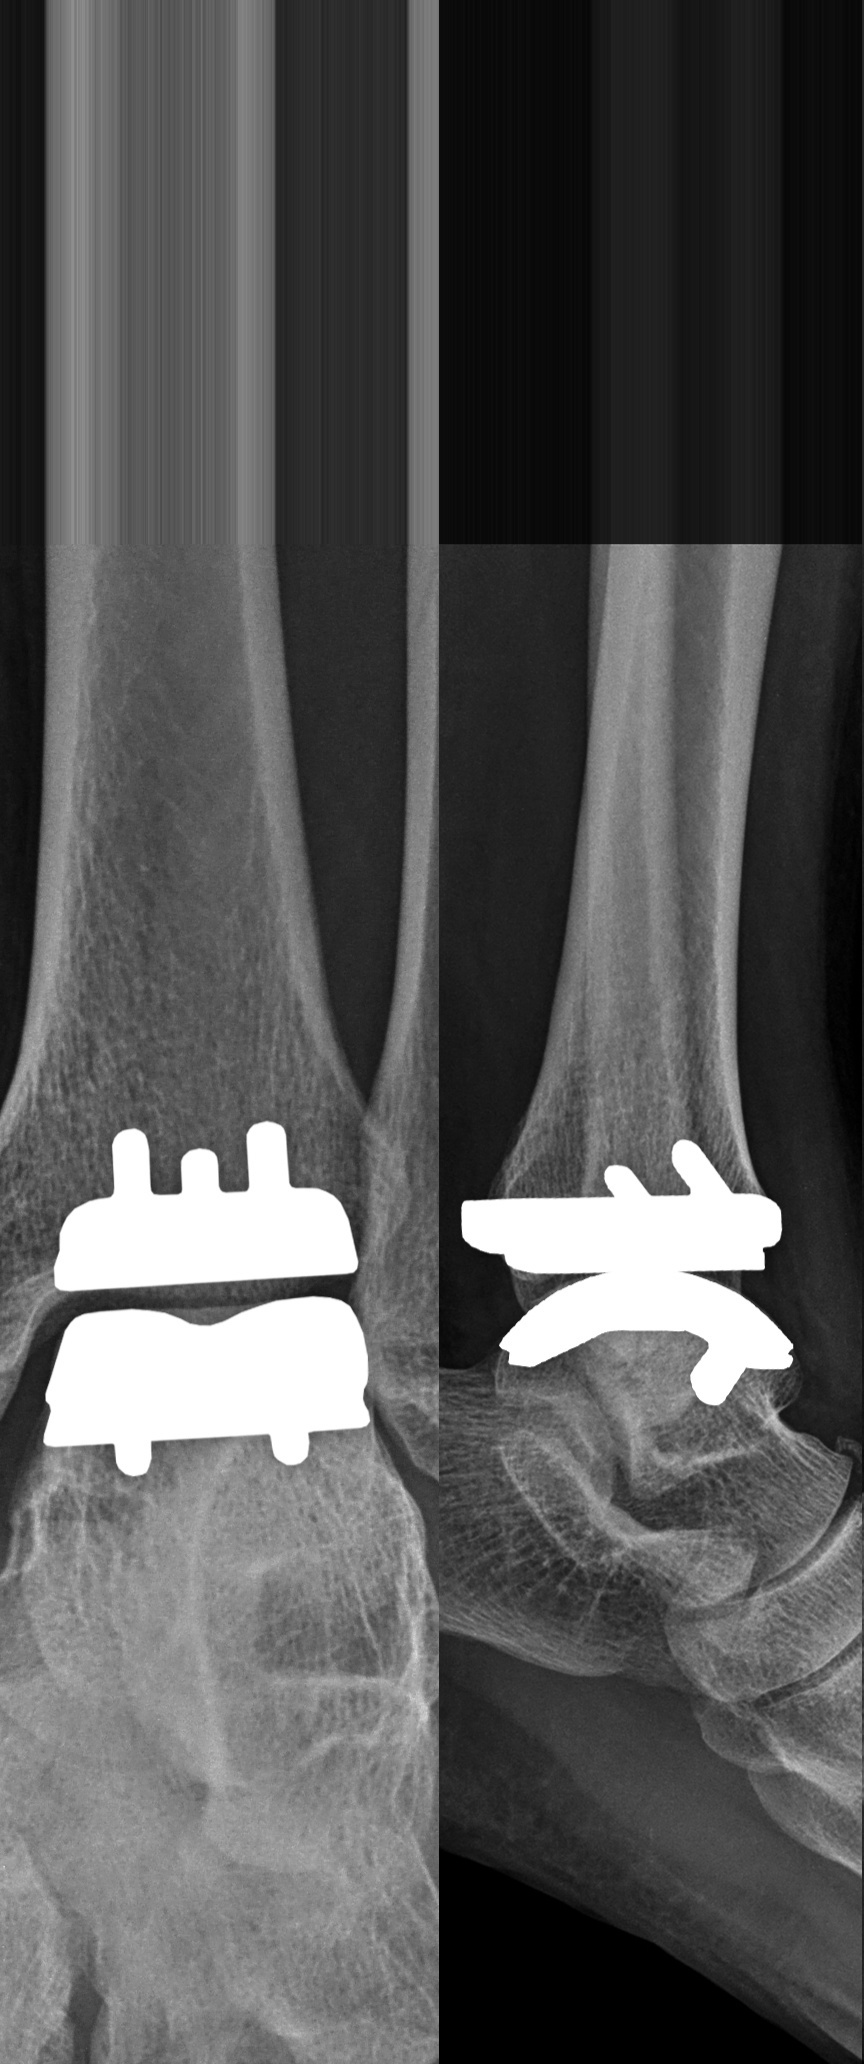Ankle - Infinity - Wright: (33, 1104, 381, 1503), (454, 1132, 827, 1422)
